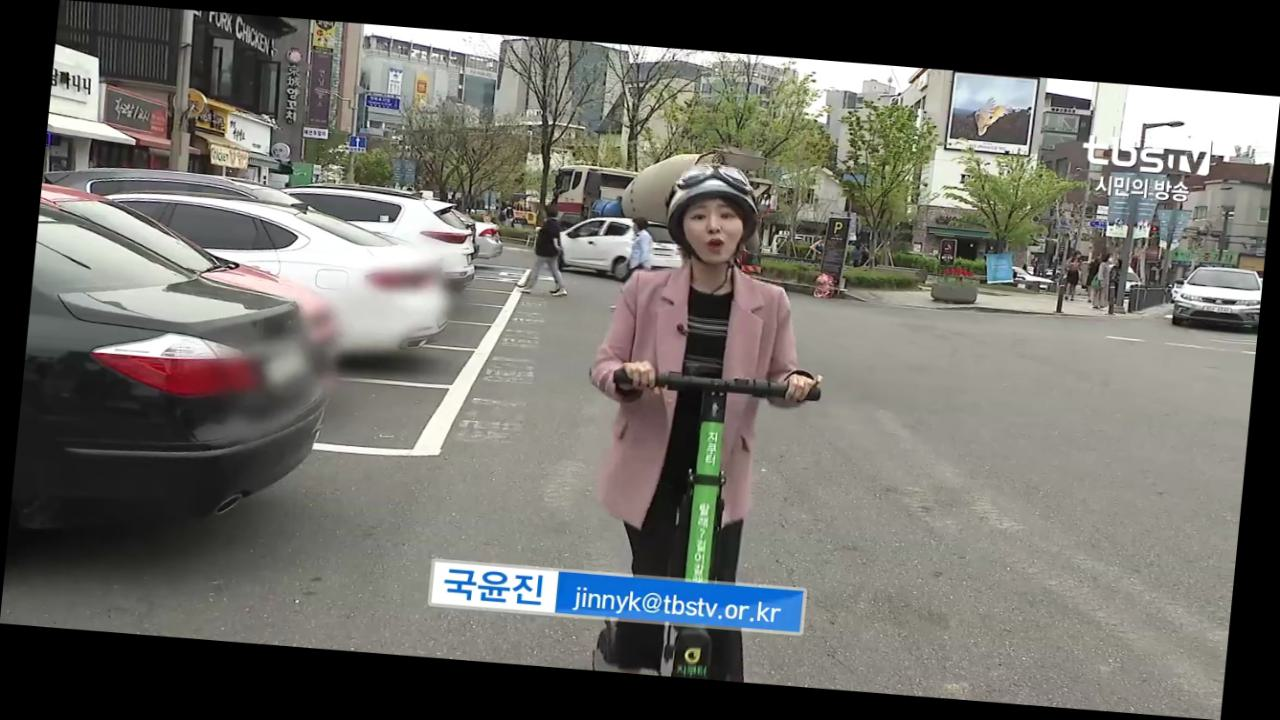helmet: (559, 152, 845, 687)
